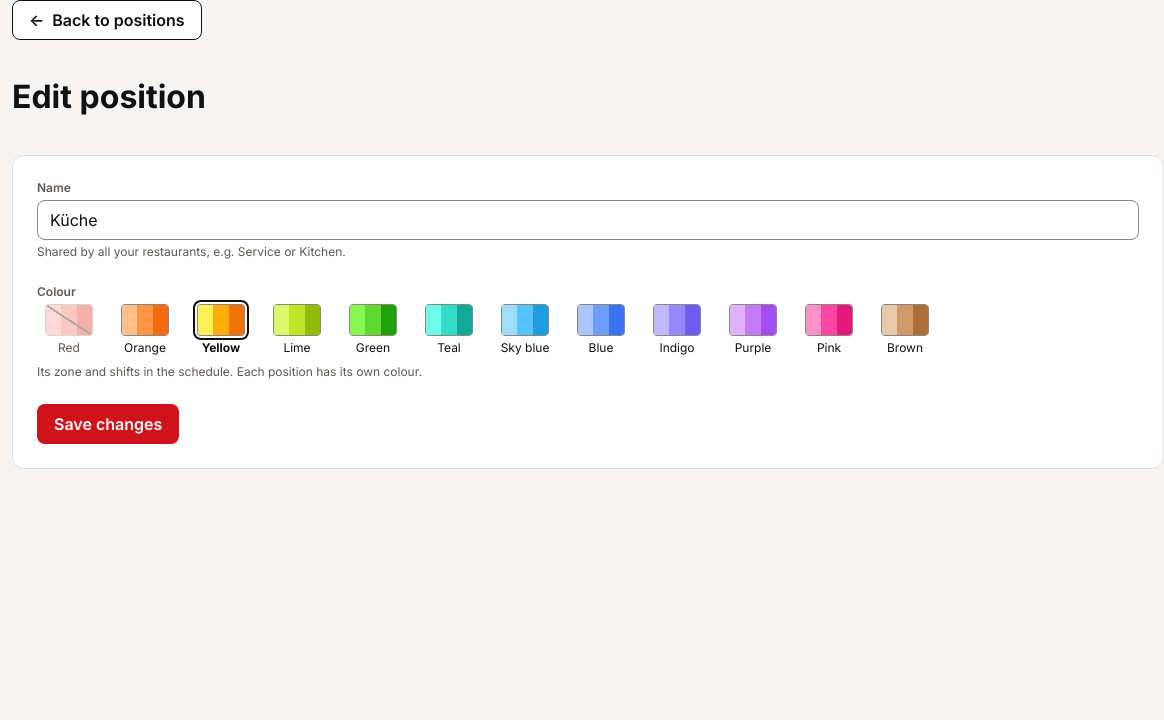
EditPosition › saving › shows a taken name under the input and stays on the form
Expected: the heading "Edit position" is shown, [12, 77, 206, 116]
Replace the text in the field labelled "Name" with "Service" at (588, 220), box [37, 200, 1139, 240]
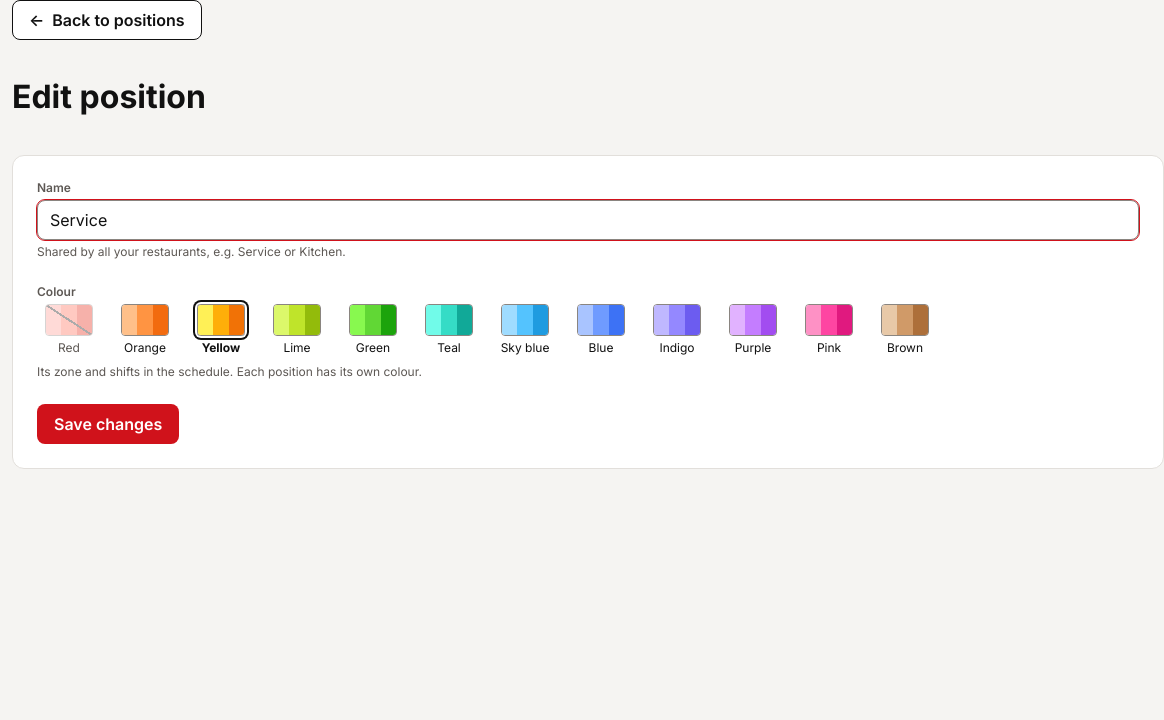
Click the button "Save changes" at (108, 424), box [37, 404, 179, 444]
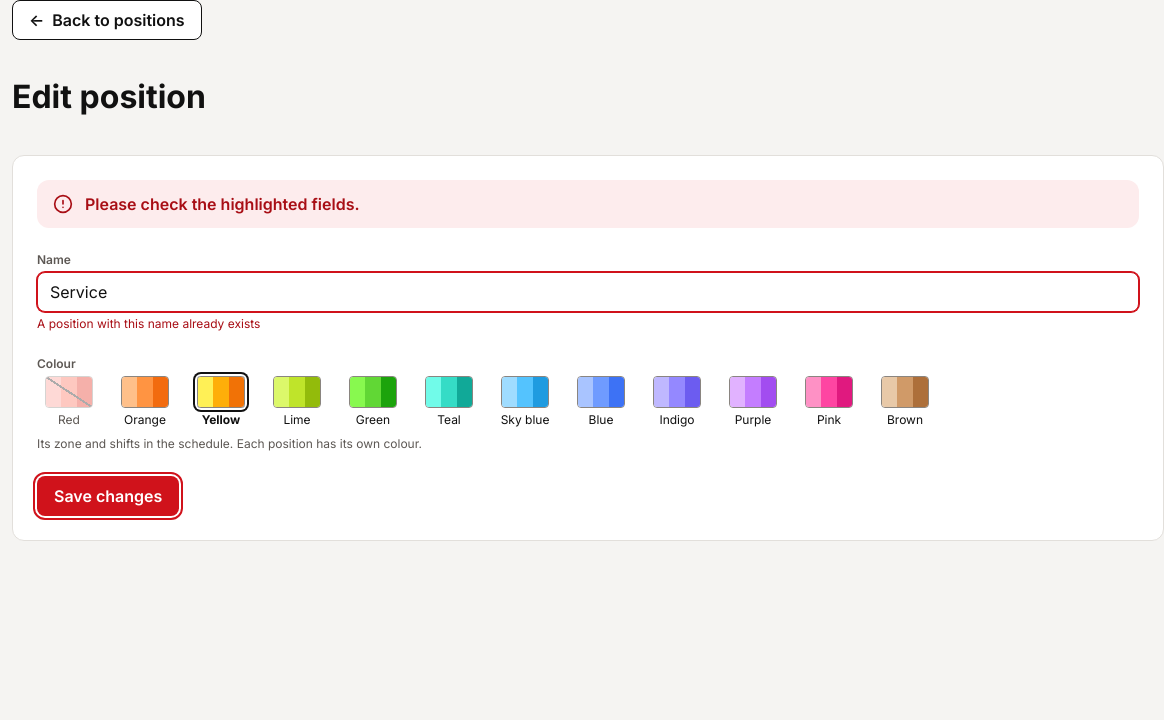
Expected: the message reads "Please check the highlighted fields.", [85, 194, 360, 214]
